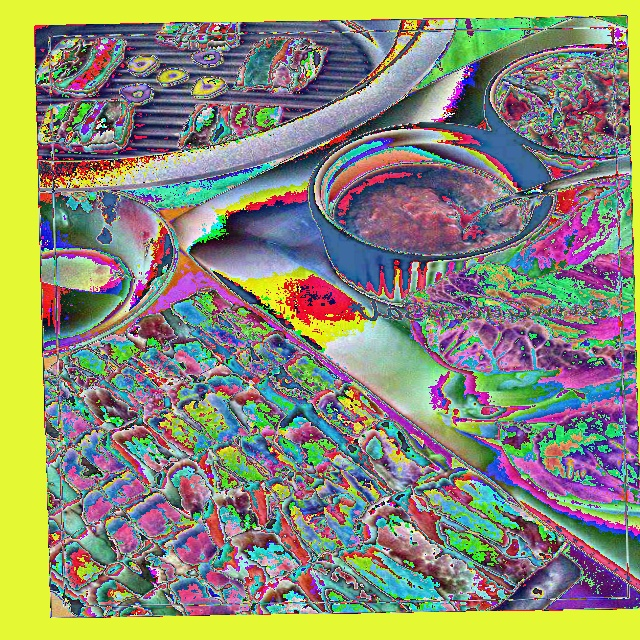background: (44, 288, 570, 617), (236, 175, 639, 512), (195, 95, 526, 254), (41, 95, 132, 341), (107, 47, 284, 149), (40, 23, 229, 98), (98, 36, 328, 94), (35, 20, 190, 86), (38, 71, 155, 152), (88, 22, 242, 67), (35, 22, 161, 76), (36, 37, 127, 98)
